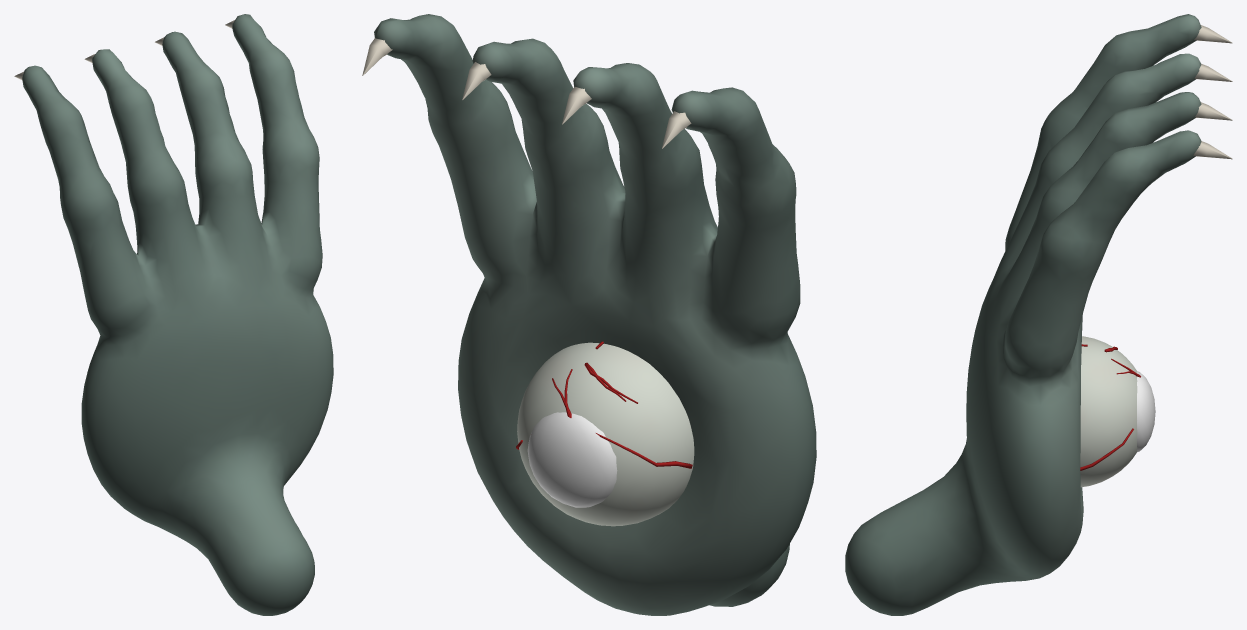
The model's file is moon_lord_hand.glb.
The picture shows the model from 3 angles, left to right: view 1: azimuth 30°, elevation 25°; view 2: azimuth 150°, elevation 25°; view 3: azimuth 270°, elevation 25°; orthographic projection. The views are drawn at different scales.
Parts seen in each view (by area): view 1: moon_lord_hand; view 2: moon_lord_hand; view 3: moon_lord_hand.
Boxes of the visible parts, left/top/right/bottom form: moon_lord_hand: left=14, top=14, right=333, bottom=615; moon_lord_hand: left=362, top=14, right=816, bottom=615; moon_lord_hand: left=845, top=14, right=1232, bottom=615.
Bounding box in the file's own units: 2.14 × 3.9 × 2.54.
